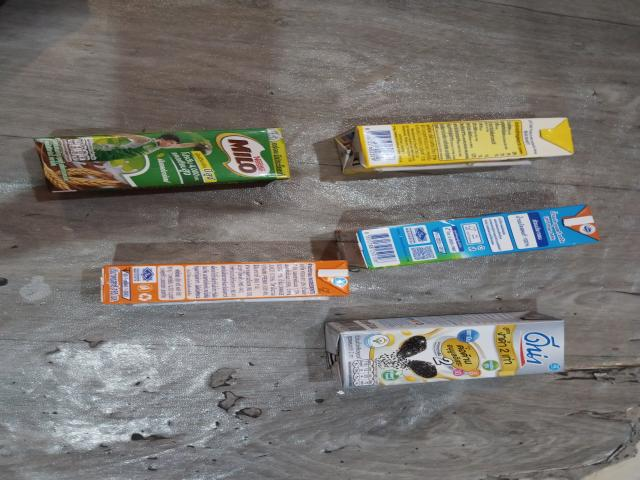drink_box: (331, 194, 626, 277), (23, 120, 306, 201), (316, 312, 574, 388), (331, 113, 580, 170), (97, 258, 366, 304)
